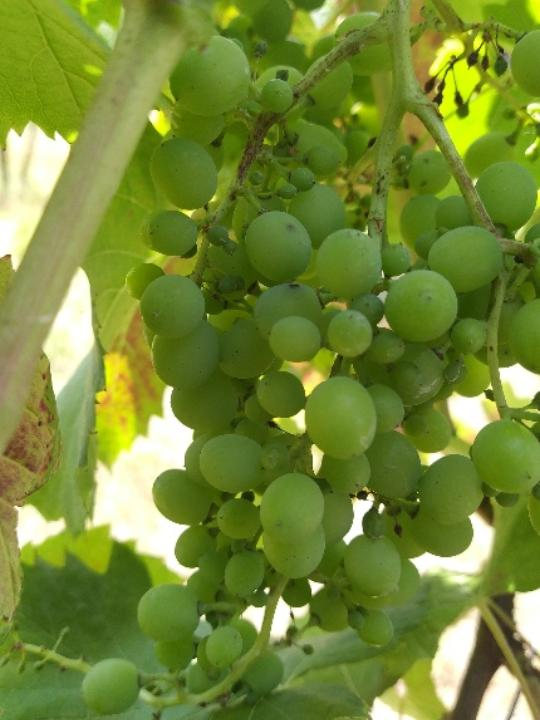grape: (75, 11, 540, 720)
